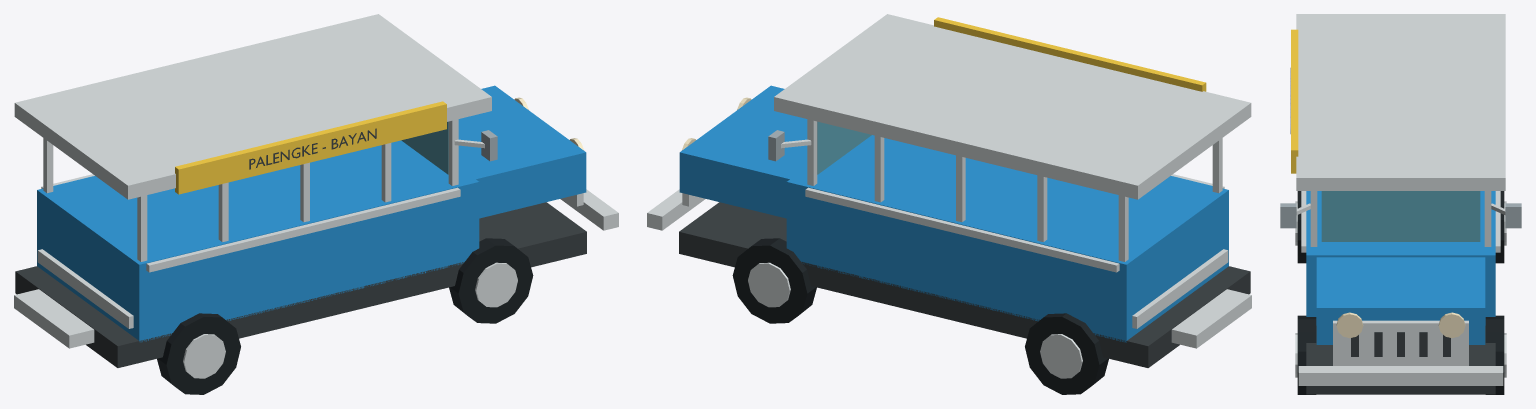
The model's file is TR_Jeepney_blue.glb.
The picture shows the model from 3 angles, left to right: view 1: azimuth 30°, elevation 25°; view 2: azimuth 150°, elevation 25°; view 3: azimuth 270°, elevation 25°; orthographic projection. The views are drawn at different scales.
Visible parts, largest first — view 1: TR_Jeepney_blue; view 2: TR_Jeepney_blue; view 3: TR_Jeepney_blue.
Part boxes in pixels (bbox=[...]): TR_Jeepney_blue: bbox=[14, 14, 618, 394]; TR_Jeepney_blue: bbox=[647, 14, 1251, 394]; TR_Jeepney_blue: bbox=[1280, 14, 1521, 394].
Size of the model in its own units: 5.45 by 2.35 by 2.36.
